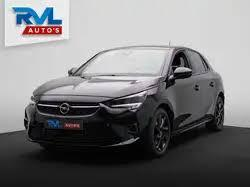opel: (54, 98, 73, 117)
